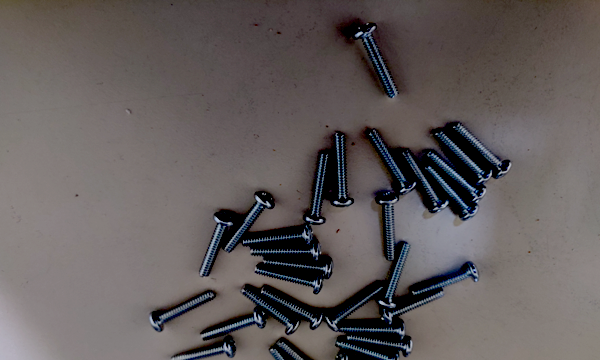longscrew: (356, 23, 404, 103), (367, 126, 415, 198), (225, 190, 277, 256), (400, 153, 453, 215), (424, 160, 477, 222), (428, 149, 484, 207), (435, 129, 491, 187), (455, 122, 511, 180), (243, 284, 305, 336), (409, 261, 484, 301), (144, 291, 217, 332), (325, 282, 390, 328), (261, 286, 328, 330), (195, 209, 235, 277), (202, 309, 269, 347), (300, 145, 328, 227), (330, 128, 357, 211), (384, 292, 445, 327), (254, 266, 326, 295), (378, 243, 411, 306), (241, 224, 319, 250), (248, 234, 326, 260), (261, 253, 338, 279), (170, 336, 238, 360), (381, 189, 403, 263), (352, 334, 414, 360), (338, 340, 400, 360), (336, 322, 414, 337), (282, 343, 332, 360), (270, 352, 320, 360), (338, 354, 401, 360)
